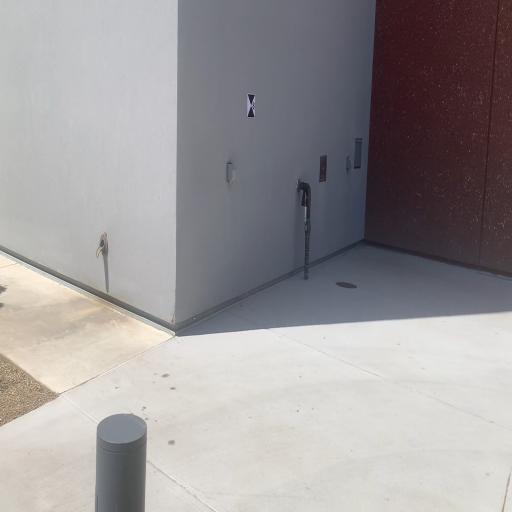target8: (248, 94, 256, 118)
